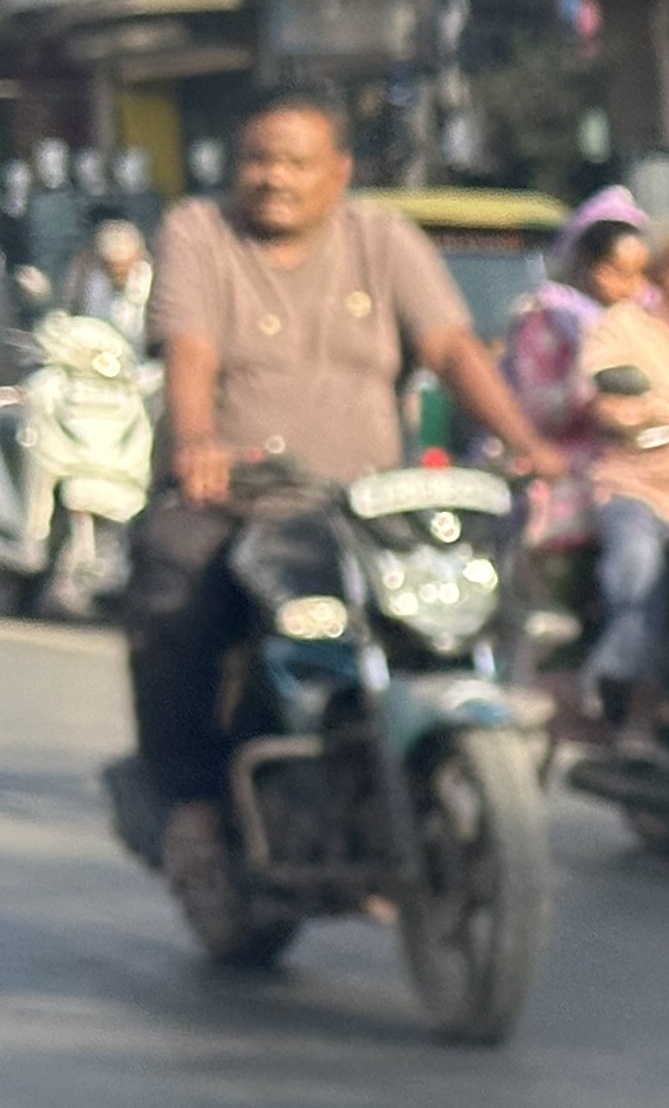BikeWithRider: (104, 80, 585, 1050), (514, 166, 669, 866)
NoHelmet: (222, 85, 346, 245), (573, 212, 655, 310)
